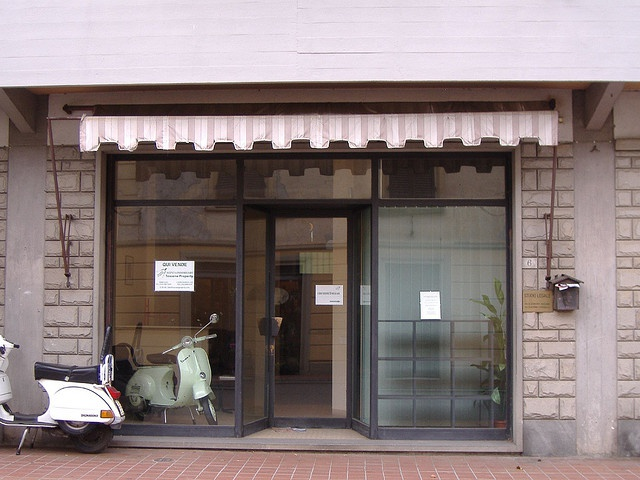non-vehicle: (0, 325, 124, 454), (111, 312, 219, 425)
